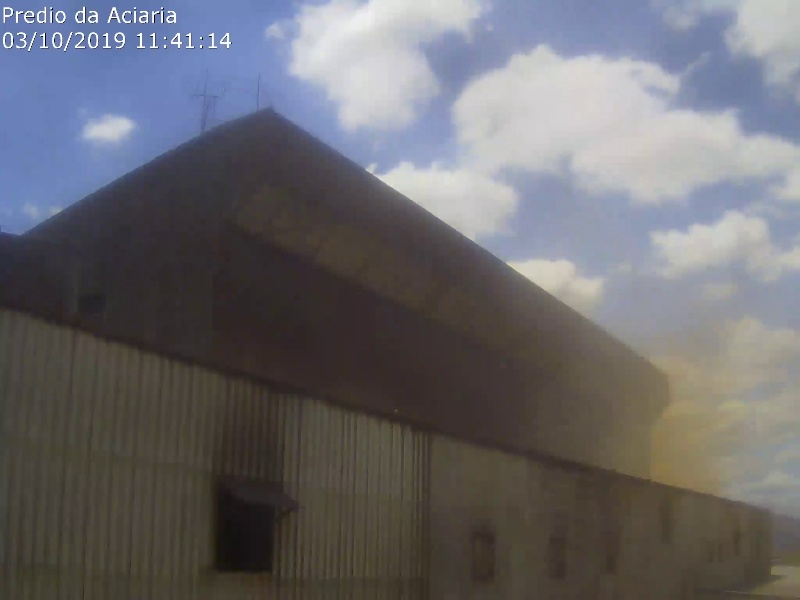bom: (247, 20, 532, 330), (9, 14, 278, 155)
ruim: (567, 278, 790, 496)
